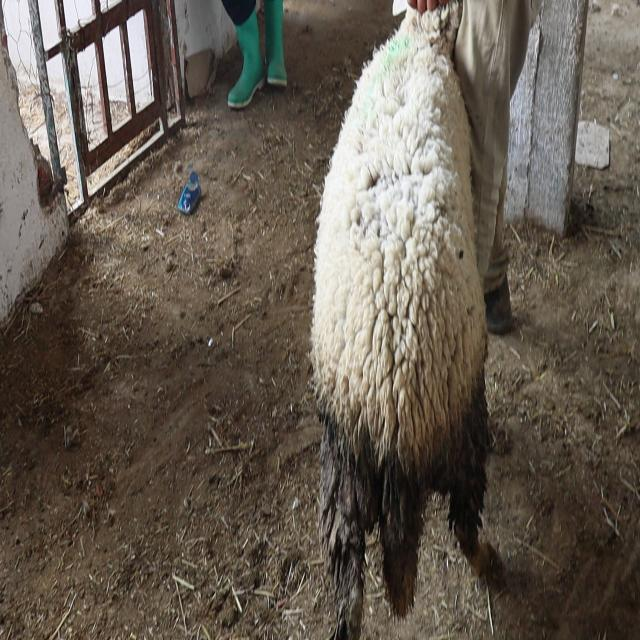Score_5: (311, 0, 495, 639)
